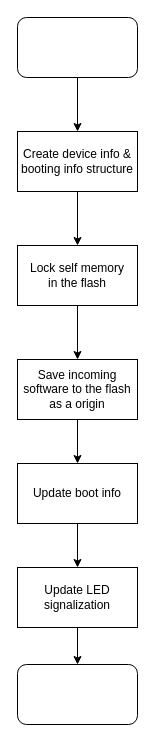
Some shapes in this 155 by 742 pixel diagram are drawn without their labels. Each missing label, with the centre of its shape:
End uniflash sequence: [77,694]
Start uniflash: [77,47]
